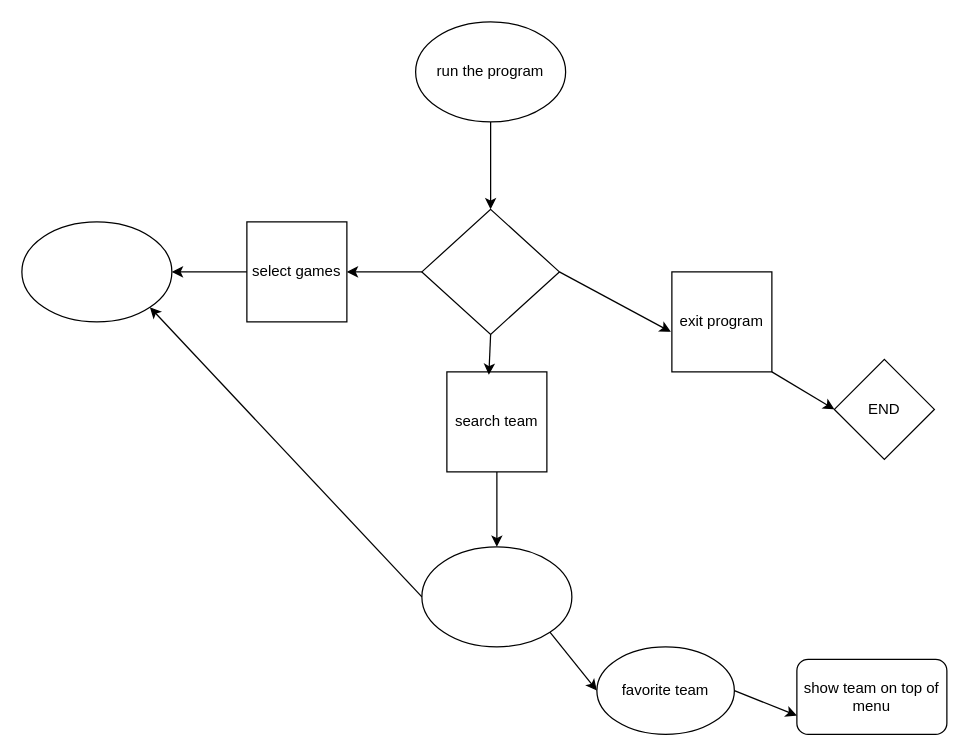
Some shapes in this 969 by 756 pixel diagram are drawn without their labels. Here are the shapes that lost their labels. From the top down, the centre of each, then its label:
At pixel 96 271: "show time and channel".
At pixel 490 271: "main menu of that days games".
At pixel 496 596: "show upcoming game".
